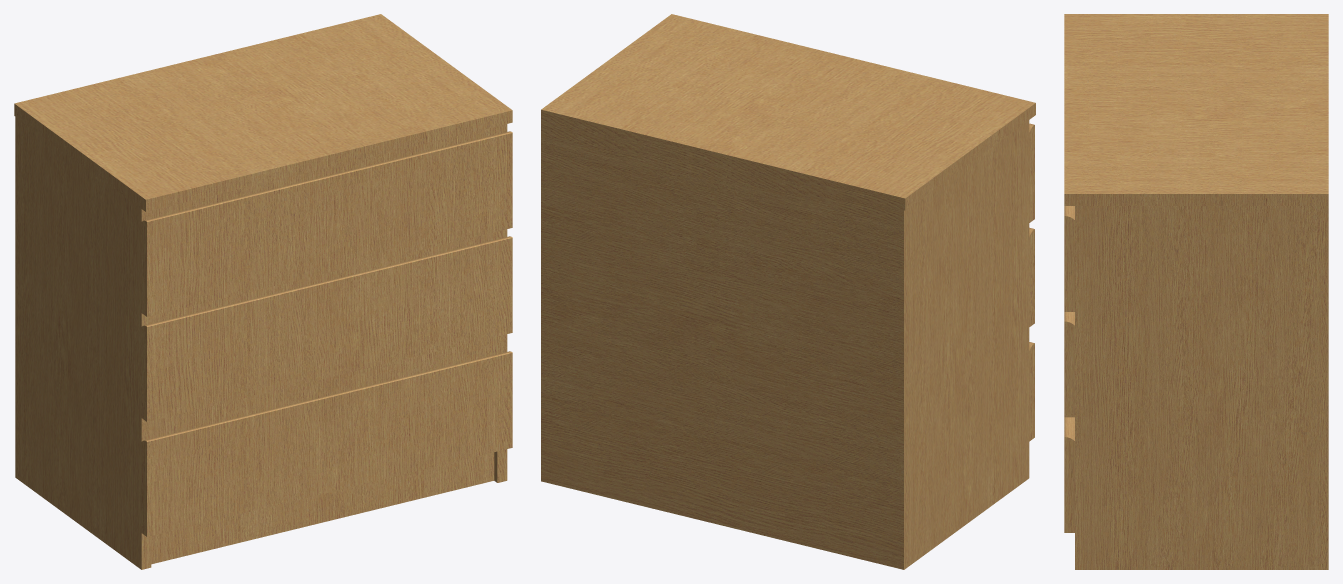
File: ThreeDrawerChest.fbx
3 renders of one model, left to right at view 1: azimuth 30°, elevation 25°; view 2: azimuth 150°, elevation 25°; view 3: azimuth 270°, elevation 25°, orthographic.
Parts seen in each view (by area): view 1: polySurface1, polySurface3, polySurface4, polySurface2; view 2: polySurface1; view 3: polySurface1, polySurface4, polySurface2, polySurface3.
Part boxes in pixels (x1,y1,x2,y2): polySurface1: (14,14,512,569); polySurface3: (141,236,512,421); polySurface4: (141,351,512,536); polySurface2: (141,131,512,316); polySurface1: (541,14,1035,569); polySurface1: (1064,14,1328,569); polySurface4: (1064,417,1074,532); polySurface2: (1064,206,1074,311); polySurface3: (1064,312,1074,417).
Bounding box in the file's own units: 0.8055 × 0.7855 × 0.5006.
